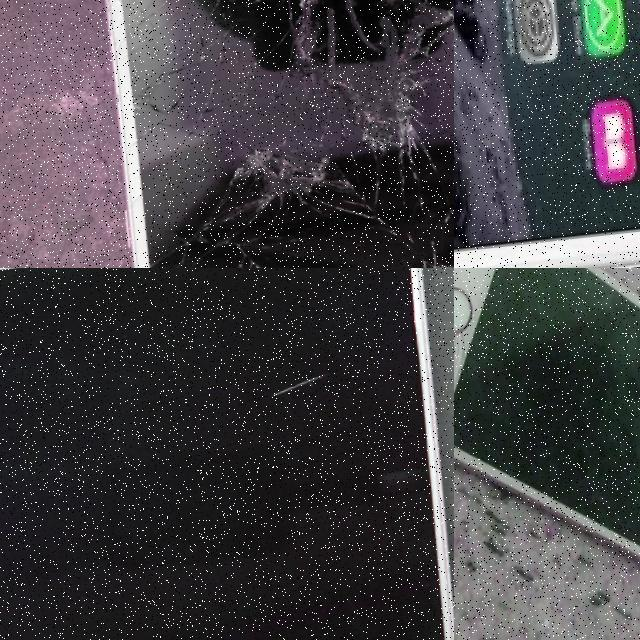scratch: (256, 372, 336, 415)
screen crack: (96, 0, 454, 268), (454, 276, 486, 477)
